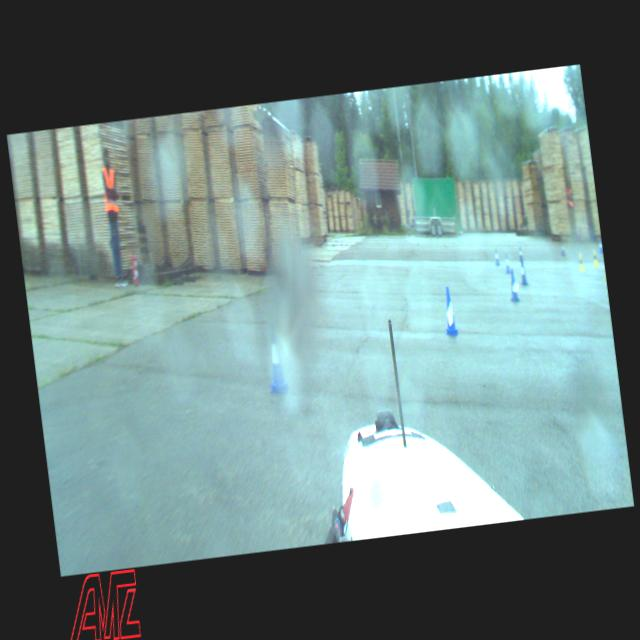blue_cone: (262, 324, 290, 394), (440, 285, 458, 336), (507, 268, 519, 302), (518, 260, 528, 286), (492, 248, 500, 266), (504, 254, 511, 274), (516, 243, 522, 260), (559, 238, 565, 255), (598, 240, 602, 252)
yellow_cone: (578, 254, 584, 272), (592, 250, 598, 266)
